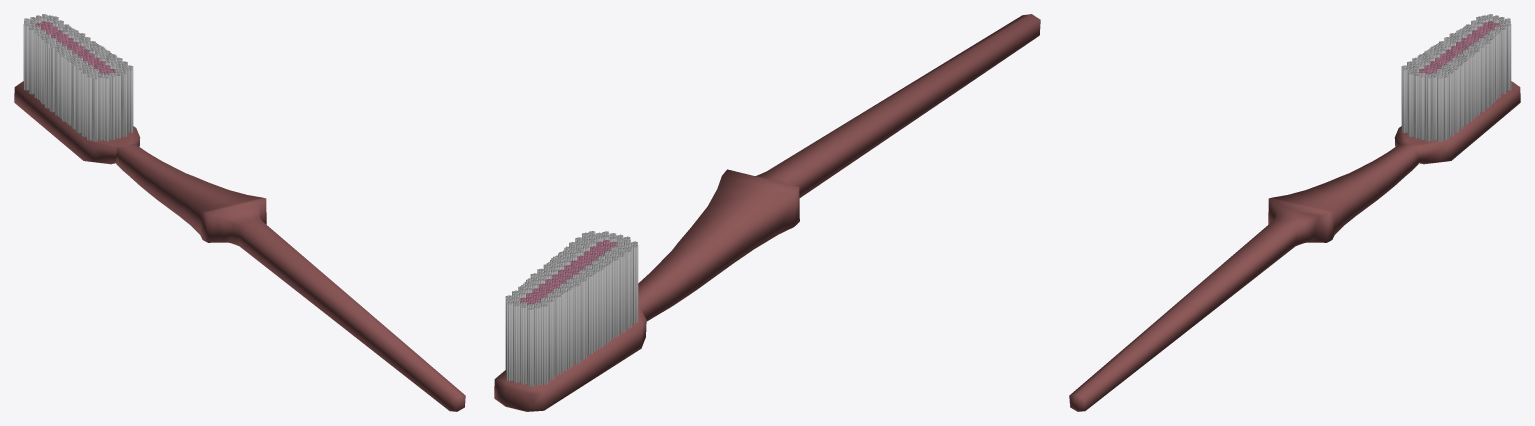
The model's file is toothbrush.fbx.
The picture shows the model from 3 angles, left to right: view 1: azimuth 30°, elevation 25°; view 2: azimuth 150°, elevation 25°; view 3: azimuth 330°, elevation 25°; orthographic projection. The views are drawn at different scales.
Parts seen in each view (by area): view 1: Handle, White_Bristles, Pink_Bristles; view 2: Handle, White_Bristles, Pink_Bristles; view 3: Handle, White_Bristles, Pink_Bristles.
Boxes of the visible parts, x1=… form: Handle: x1=14, y1=81, x2=465, y2=411; White_Bristles: x1=23, y1=14, x2=133, y2=141; Pink_Bristles: x1=35, y1=21, x2=115, y2=74; Handle: x1=494, y1=14, x2=1040, y2=411; White_Bristles: x1=505, y1=231, x2=638, y2=386; Pink_Bristles: x1=519, y1=240, x2=616, y2=305; Handle: x1=1069, y1=81, x2=1520, y2=411; White_Bristles: x1=1401, y1=14, x2=1511, y2=141; Pink_Bristles: x1=1419, y1=21, x2=1499, y2=74.
Size of the model in its own units: 1.1 by 1.53 by 13.8.
